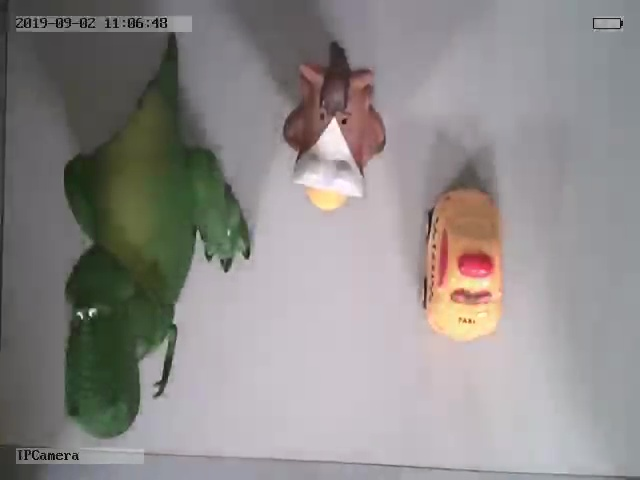car: (422, 186, 504, 345)
horse: (282, 39, 386, 213)
rex: (64, 54, 253, 439)
